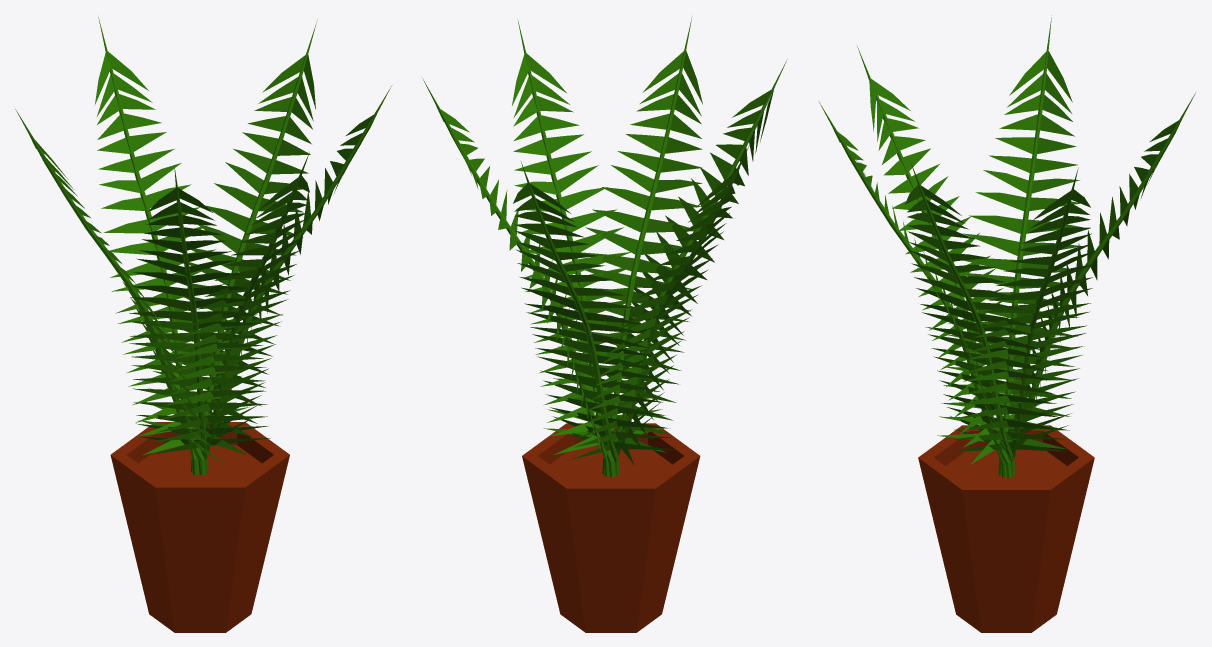
Rendered from backleaf.fbx.
3 views of the same model, side by side, from view 1: azimuth 30°, elevation 25°; view 2: azimuth 150°, elevation 25°; view 3: azimuth 270°, elevation 25° (orthographic).
Parts seen in each view (by area): view 1: Cylinder, Plane.004, Plane.016, Plane.011, Plane.007, Plane.002, Plane.009; view 2: Cylinder, Plane.016, Plane.007, Plane.009, Plane.002, Plane.004, Plane.011; view 3: Cylinder, Plane.002, Plane.011, Plane.009, Plane.004, Plane.016, Plane.007.
Part boxes in pixels (x1,y1,x2,y2): Cylinder: (110, 422, 289, 632); Plane.004: (128, 166, 270, 459); Plane.016: (94, 17, 252, 459); Plane.011: (138, 20, 317, 455); Plane.007: (149, 152, 309, 454); Plane.002: (15, 109, 225, 464); Plane.009: (200, 86, 391, 452); Cylinder: (522, 423, 700, 632); Plane.016: (513, 162, 674, 461); Plane.007: (543, 16, 702, 457); Plane.009: (512, 19, 663, 459); Plane.002: (569, 145, 749, 460); Plane.004: (603, 59, 787, 465); Plane.011: (422, 78, 613, 466); Cylinder: (918, 425, 1094, 632); Plane.002: (937, 15, 1081, 459); Plane.011: (950, 167, 1093, 458); Plane.009: (905, 162, 1070, 461); Plane.004: (857, 46, 1037, 465); Plane.016: (1002, 93, 1195, 466); Plane.007: (819, 102, 1018, 467).
Bounding box in the file's own units: 895 × 1431 × 943.
